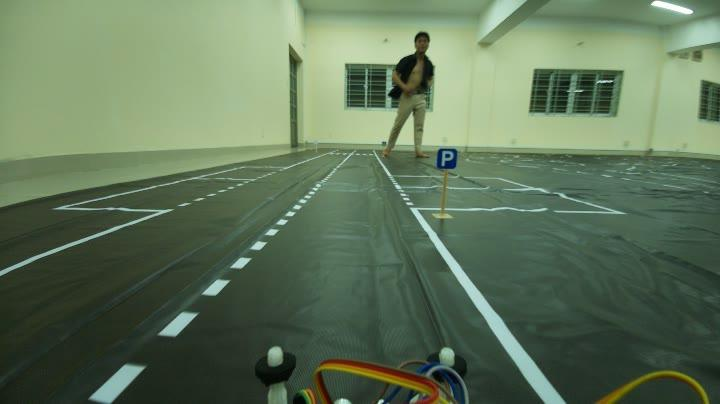parking: (434, 144, 466, 172)
